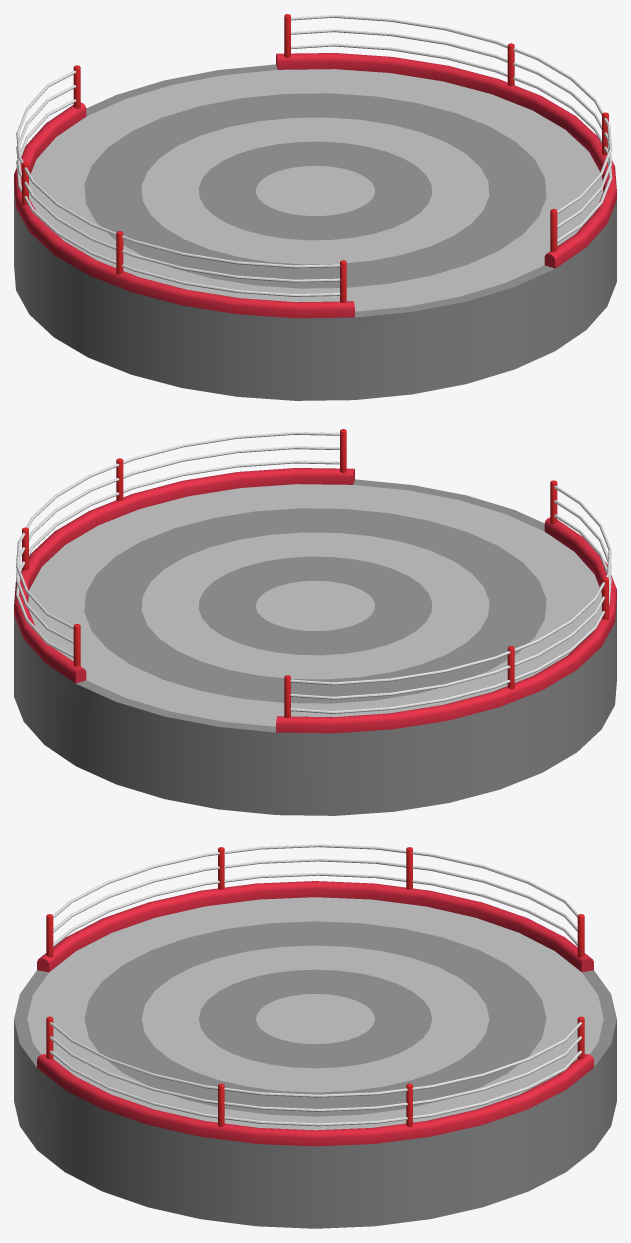
File: Final_daire.fbx
The picture shows the model from 3 angles, top to bottom: view 1: azimuth 30°, elevation 25°; view 2: azimuth 150°, elevation 25°; view 3: azimuth 270°, elevation 25°; orthographic projection.
Visible parts, largest first — view 1: Final_Dair, İp, Direk; view 2: Final_Dair, İp, Direk; view 3: Final_Dair, İp, Direk.
Part boxes in pixels (<box>): Final_Dair: <box>14,53,616,400</box>; İp: <box>16,15,612,296</box>; Direk: <box>22,14,608,302</box>; Final_Dair: <box>14,468,616,815</box>; İp: <box>16,432,611,713</box>; Direk: <box>22,429,608,717</box>; Final_Dair: <box>14,881,616,1228</box>; İp: <box>49,844,582,1126</box>; Direk: <box>46,847,584,1127</box>.
Size of the model in its own units: 3819 by 943 by 3819.
